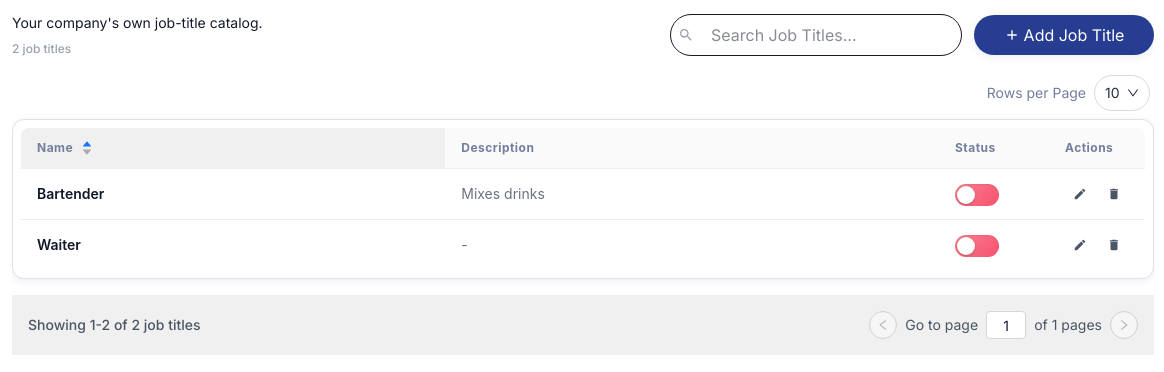
Test: TenantJobTitlesTab › filters the list by search text
Type "Bar" into the field with placeholder "Search Job Titles..." at x=816, y=35, box [670,14,962,56]
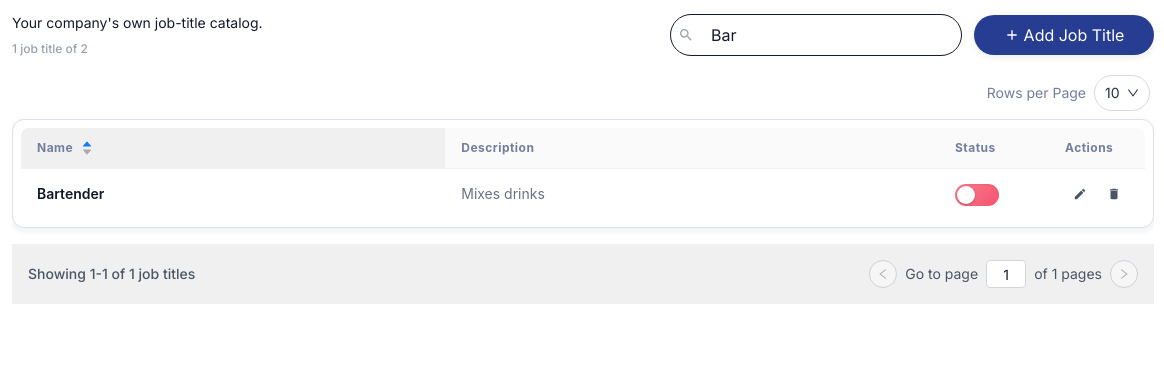
Check: the text "Bartender" is shown, box [37,185,104,202]
Check: the text "Waiter" is gone
